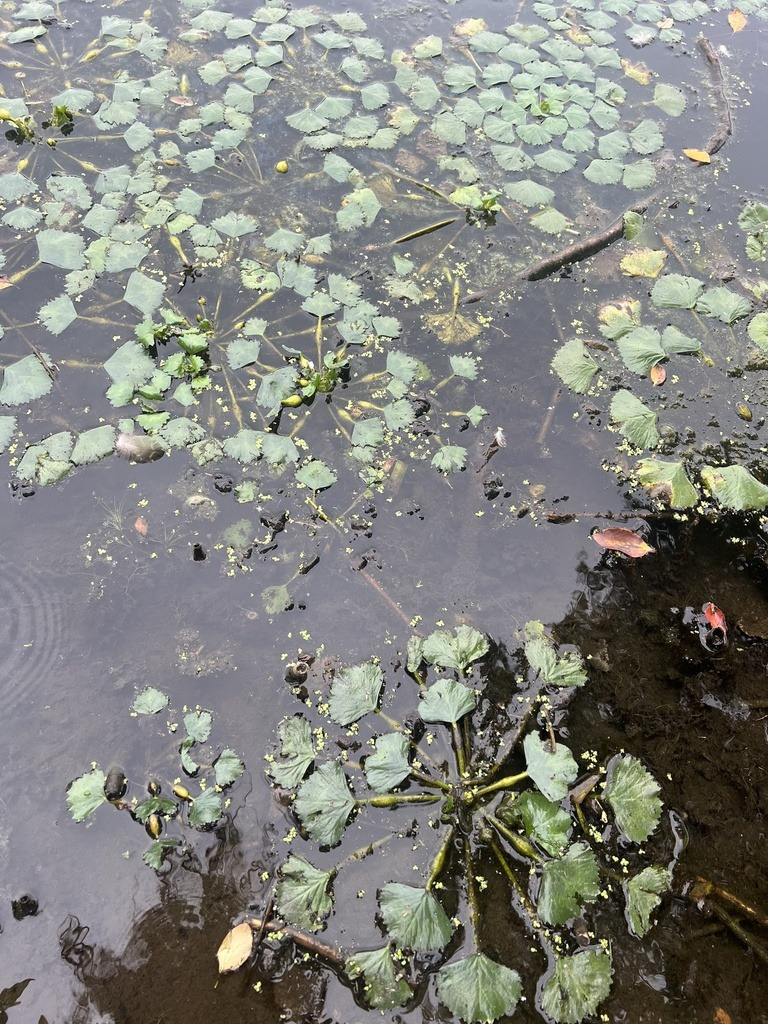water chestnut: (2, 2, 766, 1021)
